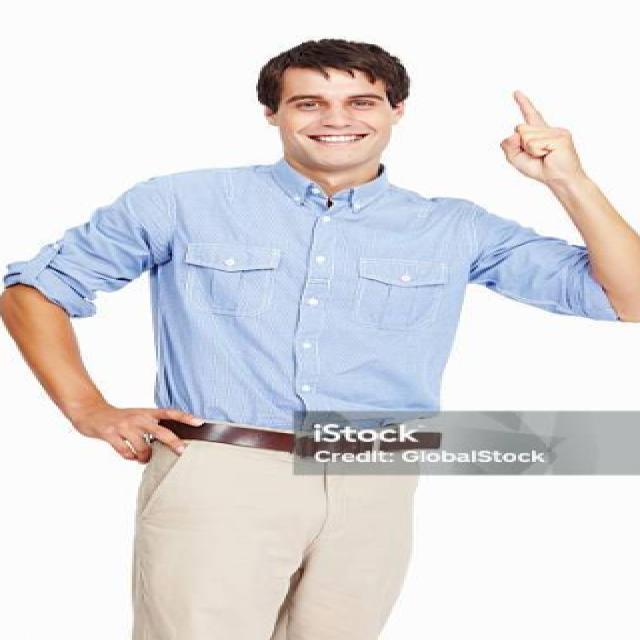face_no_mask: (263, 69, 402, 161)
